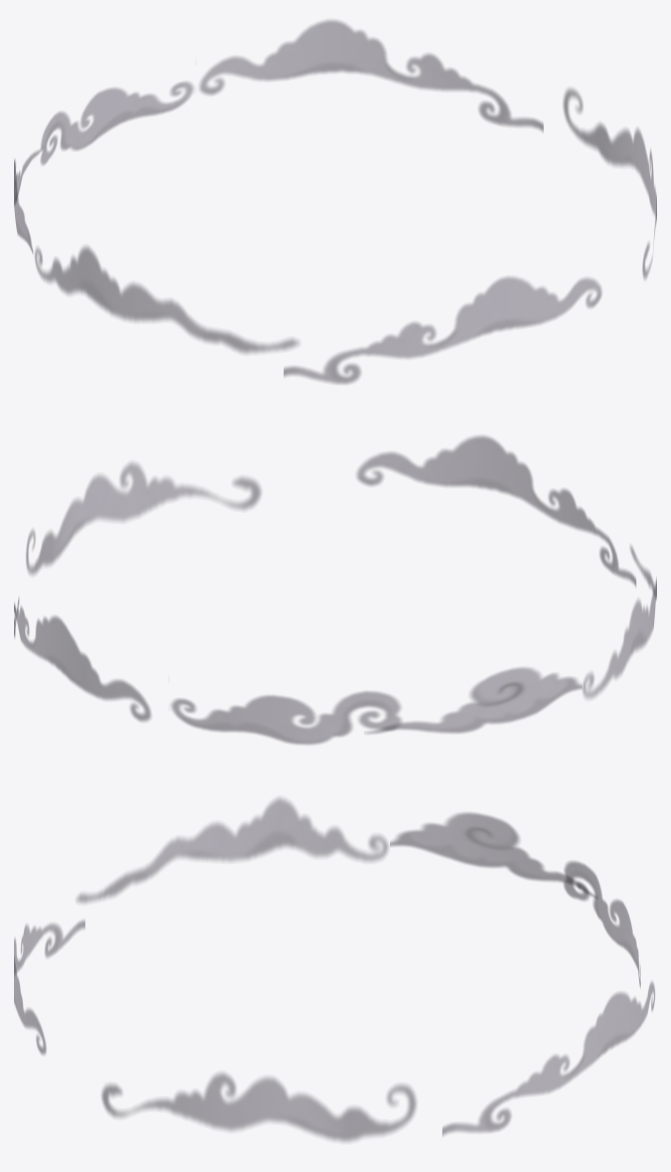
File: Clouds02.glb
3 renders of one model, top to bottom at view 1: azimuth 30°, elevation 25°; view 2: azimuth 150°, elevation 25°; view 3: azimuth 270°, elevation 25°, orthographic.
Parts seen in each view (by area): view 1: Clouds02; view 2: Clouds02; view 3: Clouds02.
Boxes of the visible parts, x1=… form: Clouds02: x1=14, y1=20, x2=656, y2=384; Clouds02: x1=14, y1=435, x2=656, y2=744; Clouds02: x1=14, y1=798, x2=654, y2=1141.
Bounding box in the file's own units: 88.44 × 16.22 × 88.48.
Materials: 1 (1 with a texture image).
